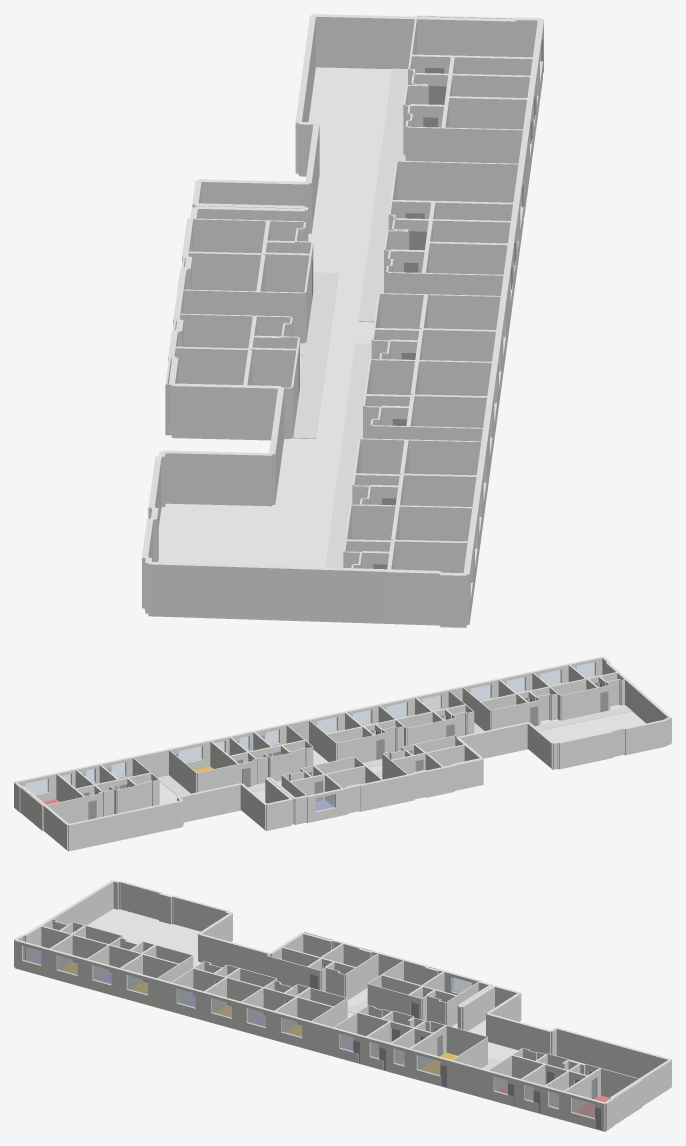
Rendered from D3_large_shop_152418_it3.glb.
3 renders of one model, top to bottom at view 1: azimuth 30°, elevation 25°; view 2: azimuth 150°, elevation 25°; view 3: azimuth 270°, elevation 25°, orthographic. The views are drawn at different scales.
Parts seen in each view (by area): view 1: geometry_3, geometry_0, geometry_1, geometry_11; view 2: geometry_3, geometry_10, geometry_0, geometry_11, geometry_1; view 3: geometry_3, geometry_0, geometry_10, geometry_11, geometry_8, geometry_7.
Boxes of the visible parts, x1=… form: geometry_3: x1=142, y1=14, x2=543, y2=626; geometry_0: x1=145, y1=67, x2=466, y2=627; geometry_1: x1=293, y1=68, x2=407, y2=567; geometry_11: x1=298, y1=38, x2=543, y2=569; geometry_3: x1=14, y1=656, x2=671, y2=850; geometry_10: x1=25, y1=662, x2=595, y2=811; geometry_0: x1=20, y1=704, x2=670, y2=851; geometry_11: x1=77, y1=683, x2=608, y2=819; geometry_1: x1=158, y1=706, x2=631, y2=796; geometry_3: x1=14, y1=880, x2=671, y2=1130; geometry_0: x1=15, y1=908, x2=670, y2=1131; geometry_10: x1=23, y1=946, x2=594, y2=1118; geometry_11: x1=61, y1=929, x2=601, y2=1129; geometry_8: x1=61, y1=962, x2=457, y2=1074; geometry_7: x1=29, y1=953, x2=353, y2=1050.
Bounding box in the file's own units: 47.85 × 2.85 × 59.43.
